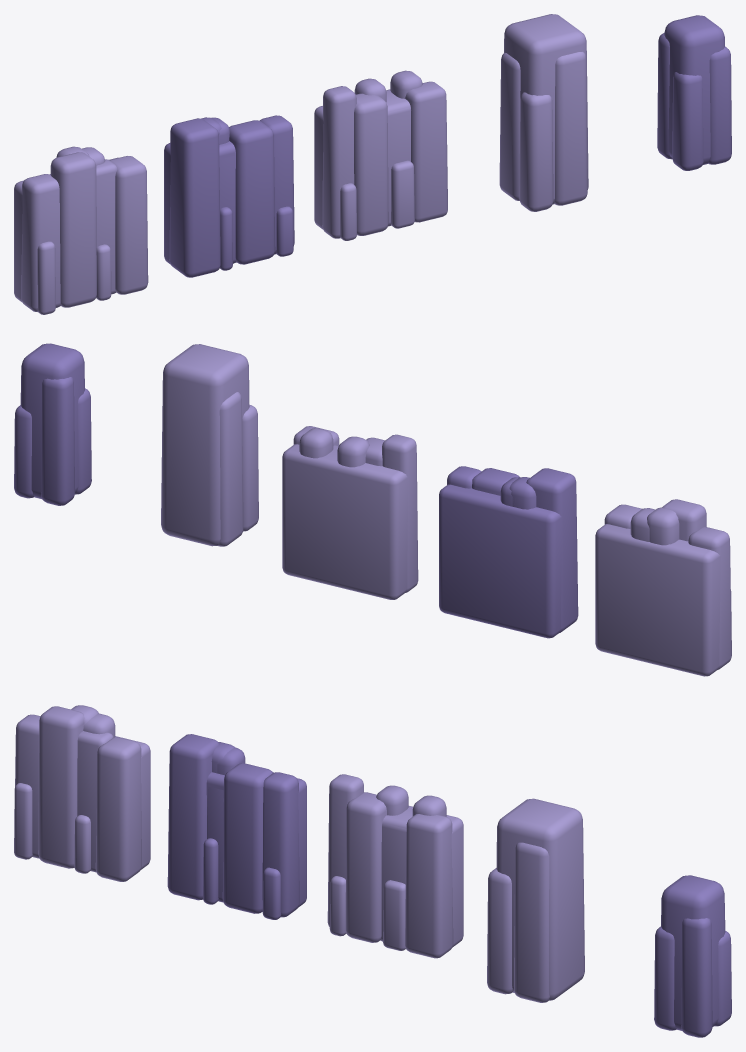
File: environment-cliff-kit.fbx
The picture shows the model from 3 angles, top to bottom: view 1: azimuth 30°, elevation 25°; view 2: azimuth 150°, elevation 25°; view 3: azimuth 330°, elevation 25°; orthographic projection. The views are drawn at different scales.
Visible parts, largest first — view 1: Cliff_Straight_C, Cliff_Straight_A, Cliff_Straight_B, Cliff_CornerInside, Cliff_CornerOutside; view 2: Cliff_Straight_B, Cliff_Straight_A, Cliff_Straight_C, Cliff_CornerInside, Cliff_CornerOutside; view 3: Cliff_Straight_B, Cliff_Straight_C, Cliff_Straight_A, Cliff_CornerInside, Cliff_CornerOutside.
Part boxes in pixels (x1,y1,x2,y2): Cliff_Straight_C: (314,70,447,240); Cliff_Straight_A: (14,146,148,314); Cliff_Straight_B: (164,115,294,277); Cliff_CornerInside: (499,14,588,211); Cliff_CornerOutside: (657,15,731,170); Cliff_Straight_B: (439,466,578,638); Cliff_Straight_A: (595,499,731,676); Cliff_Straight_C: (282,426,418,599); Cliff_CornerInside: (161,344,258,546); Cliff_CornerOutside: (14,343,91,505); Cliff_Straight_B: (167,734,306,919); Cliff_Straight_C: (327,774,463,958); Cliff_Straight_A: (14,705,150,881); Cliff_CornerInside: (487,798,584,1002); Cliff_CornerOutside: (654,875,731,1037).
Size of the model in its own units: 318 by 74 by 36.97.
